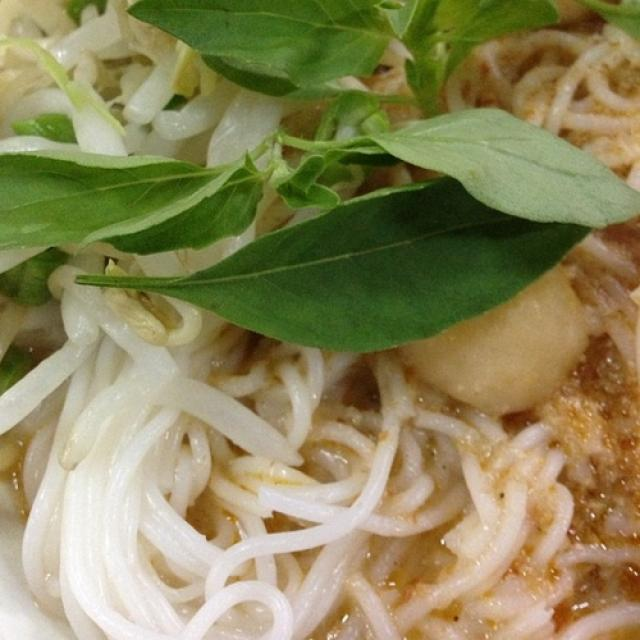面条主食: (5, 10, 630, 626)
